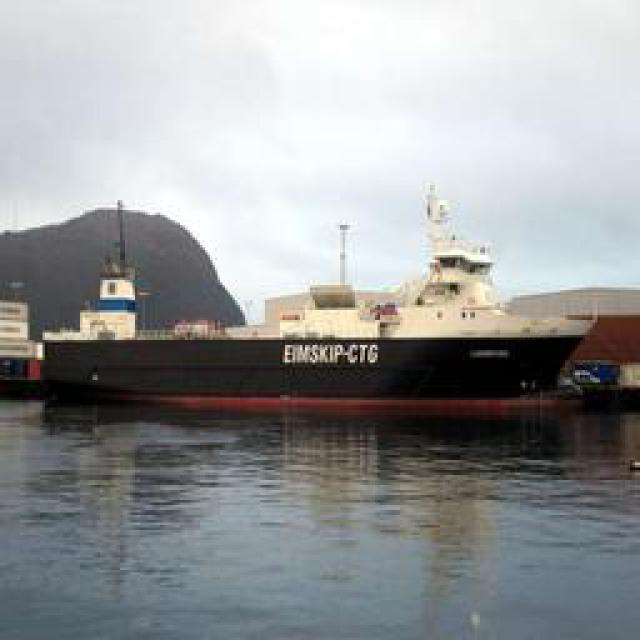Ship: (43, 184, 598, 407)
